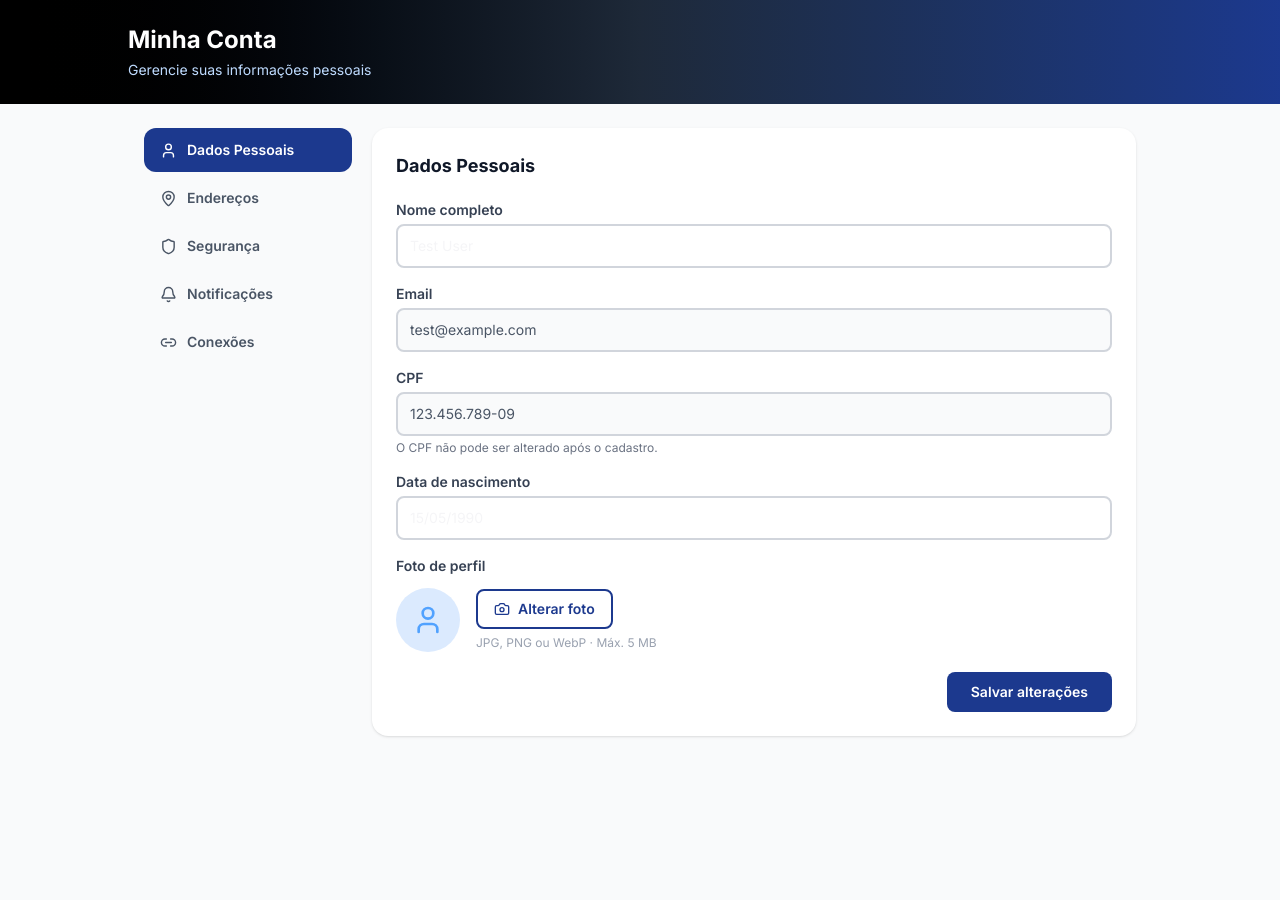
AccountPage - Dados Pessoais › shows error message from API field-level response
This screenshot has width=1280, height=900.
Click the button "Salvar alterações". click: coordinates (1029, 692)
box: top-left (947, 672), bottom-right (1112, 712)
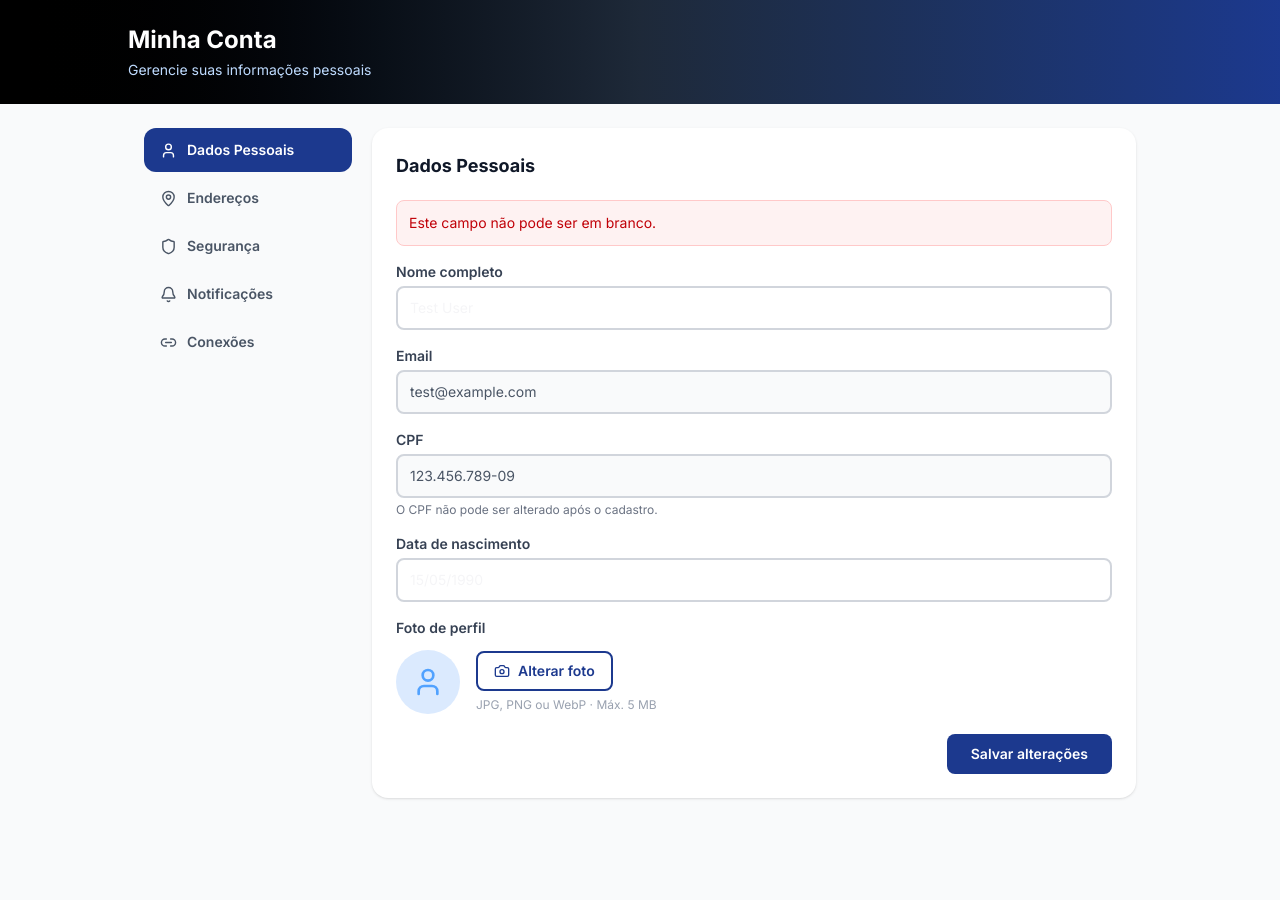
Expected: the text "Este campo não pode ser em branco." is shown, top-left (396, 200), bottom-right (1112, 246)
